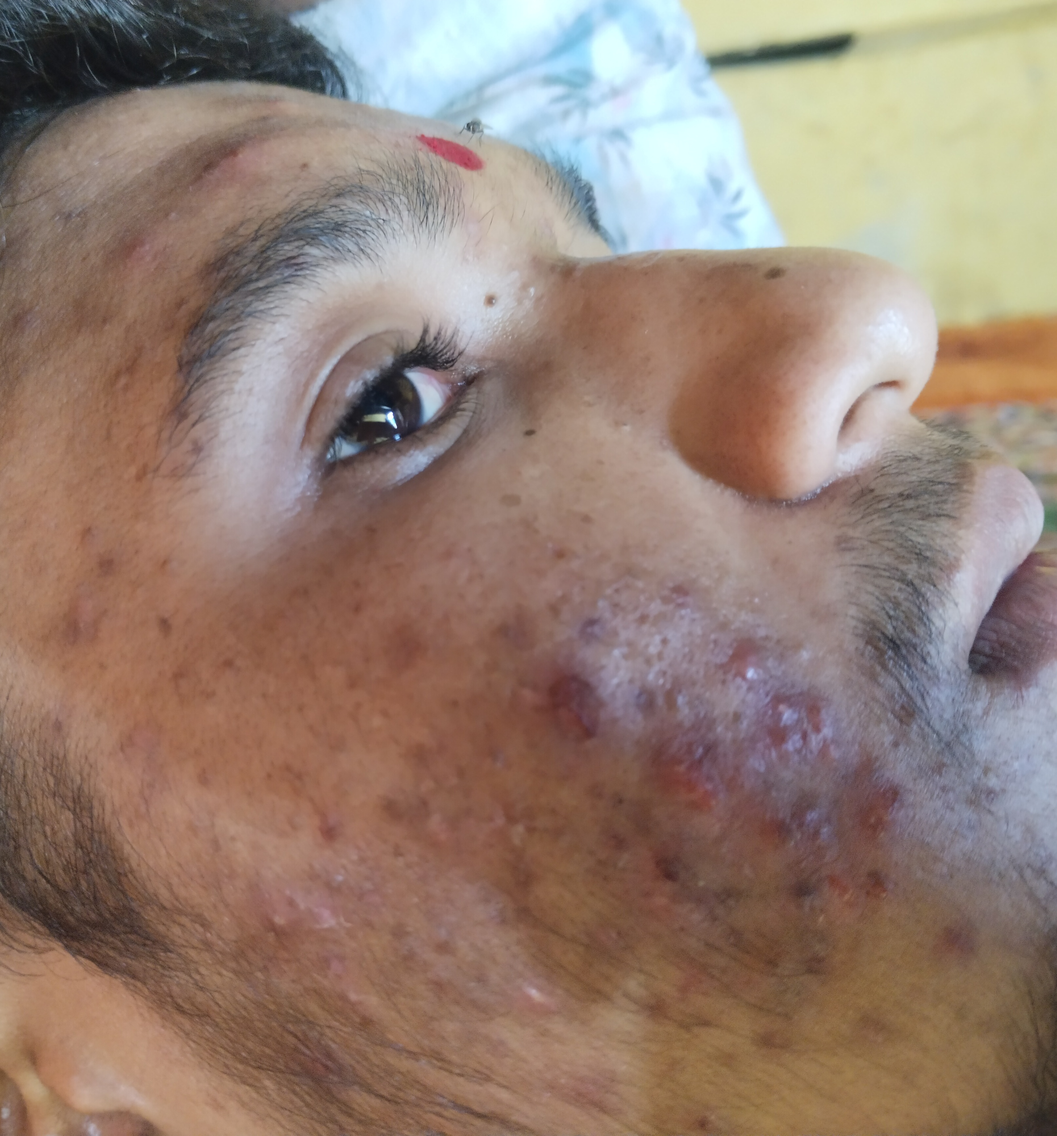papule: (253, 879, 356, 973), (24, 585, 120, 660), (842, 780, 924, 855), (570, 590, 643, 665), (380, 718, 459, 772)
pustule: (649, 735, 733, 821), (720, 626, 772, 697), (780, 695, 823, 763)
